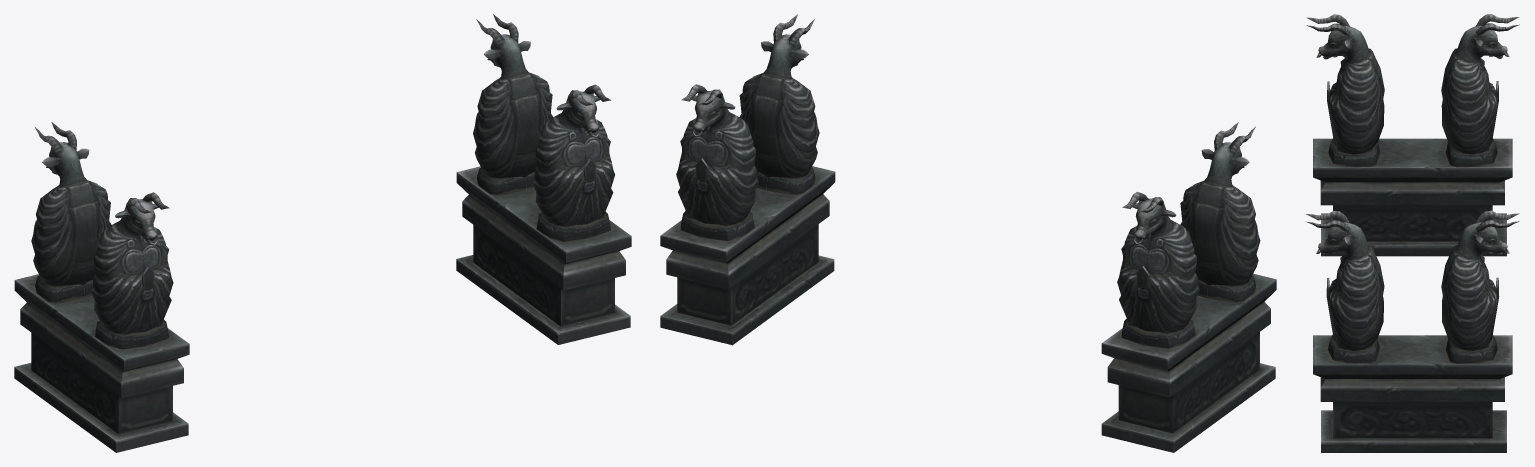
The model's file is pve_ljjl02.FBX.
The picture shows the model from 3 angles, left to right: view 1: azimuth 30°, elevation 25°; view 2: azimuth 150°, elevation 25°; view 3: azimuth 270°, elevation 25°; orthographic projection. The views are drawn at different scales.
Visible parts, largest first — view 1: pve_ljjl02; view 2: pve_ljjl02; view 3: pve_ljjl02.
Part boxes in pixels (x1,y1,x2,y2): pve_ljjl02: (14,14,631,452); pve_ljjl02: (660,14,1276,452); pve_ljjl02: (1306,14,1519,452).
Bounding box in the file's own units: 1909 × 860 × 758.
1 material, 1 textured.
